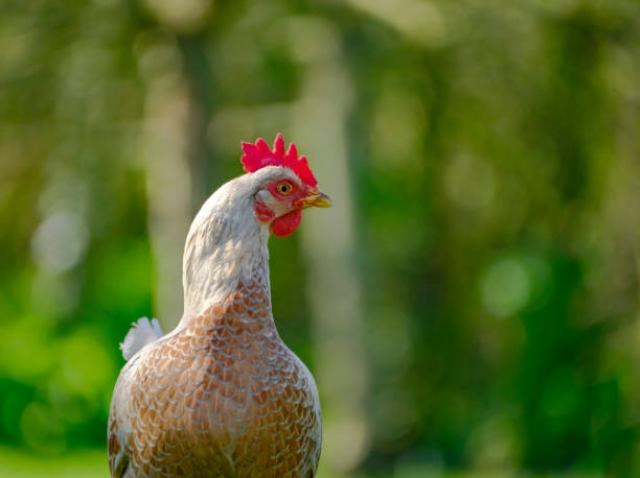Chicken: (106, 132, 333, 477)
